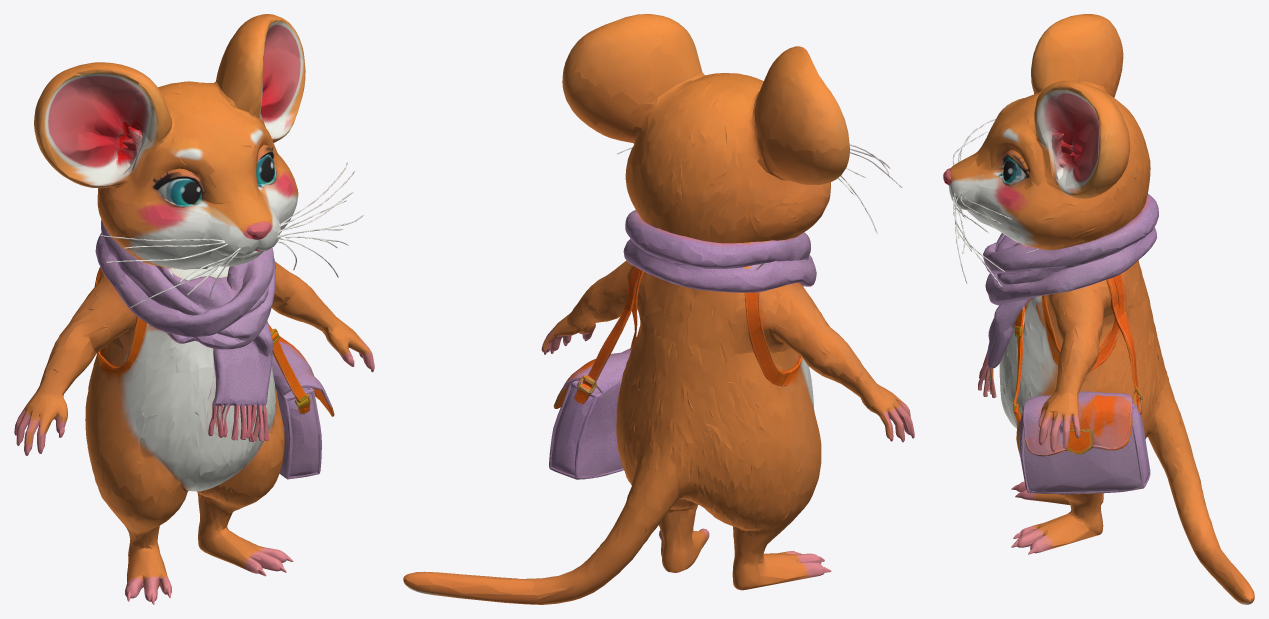
File: milo-the-traveller-mouse-v1.glb
3 renders of one model, left to right at view 1: azimuth 30°, elevation 25°; view 2: azimuth 150°, elevation 25°; view 3: azimuth 270°, elevation 25°, orthographic. The views are drawn at different scales.
Size of the model in its own units: 1.47 by 1.9 by 1.14.
Materials: 1 (1 with a texture image).
